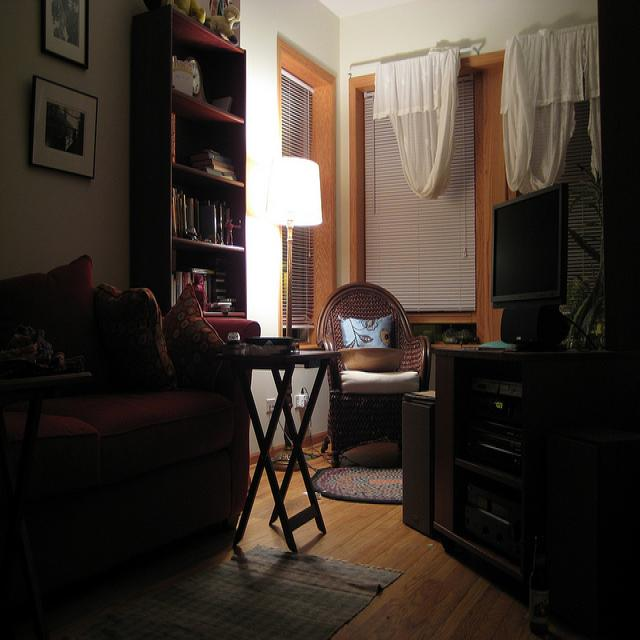Table: (420, 322, 640, 630), (217, 325, 359, 612)
chair: (0, 244, 235, 582), (323, 248, 421, 441)
